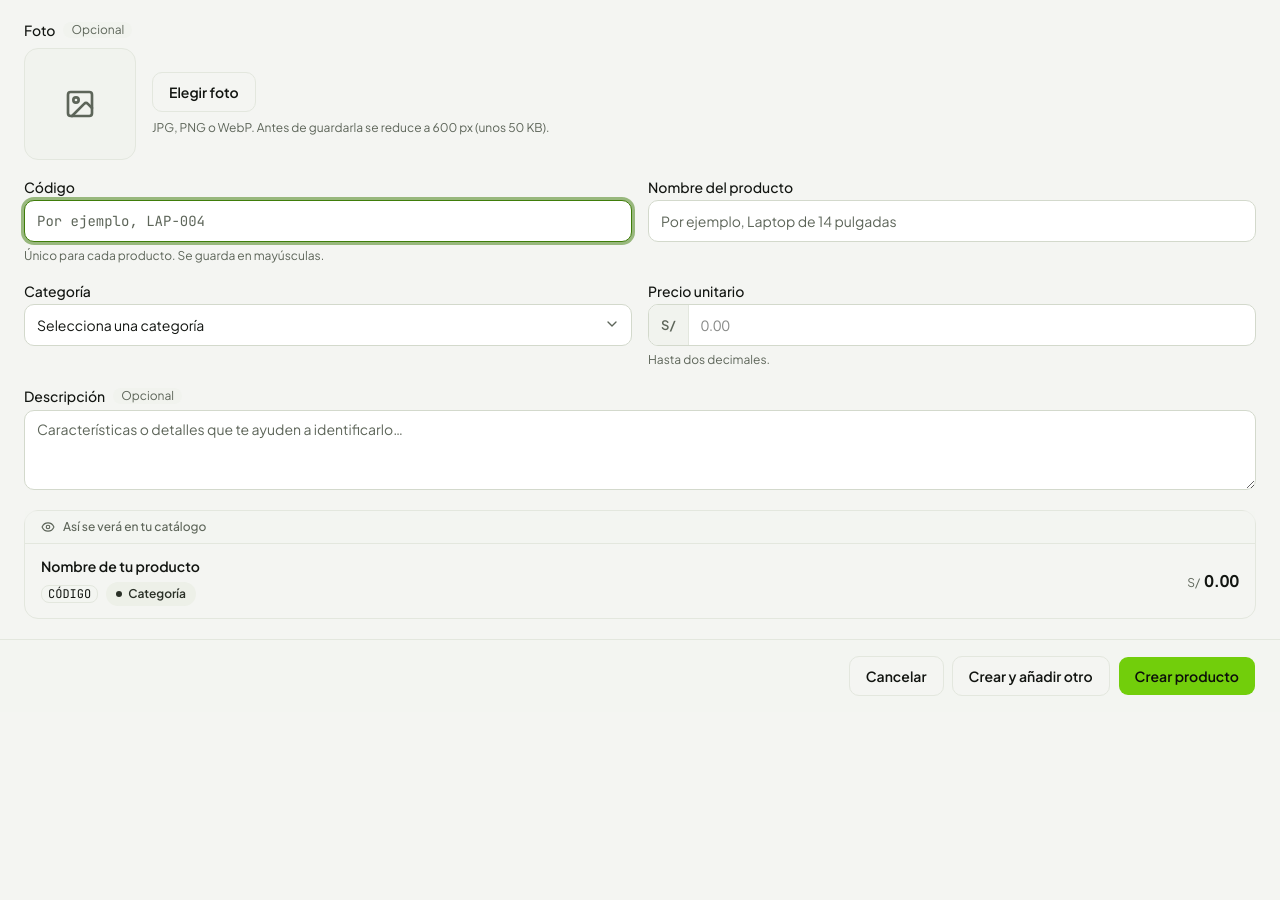
Scenario: ProductForm › marca los campos obligatorios y enfoca el primero
What coordinates should you click on to do the following:
click the button "Crear producto"
I would click on:
 (1187, 676)
Its box is [1118,656,1256,696].
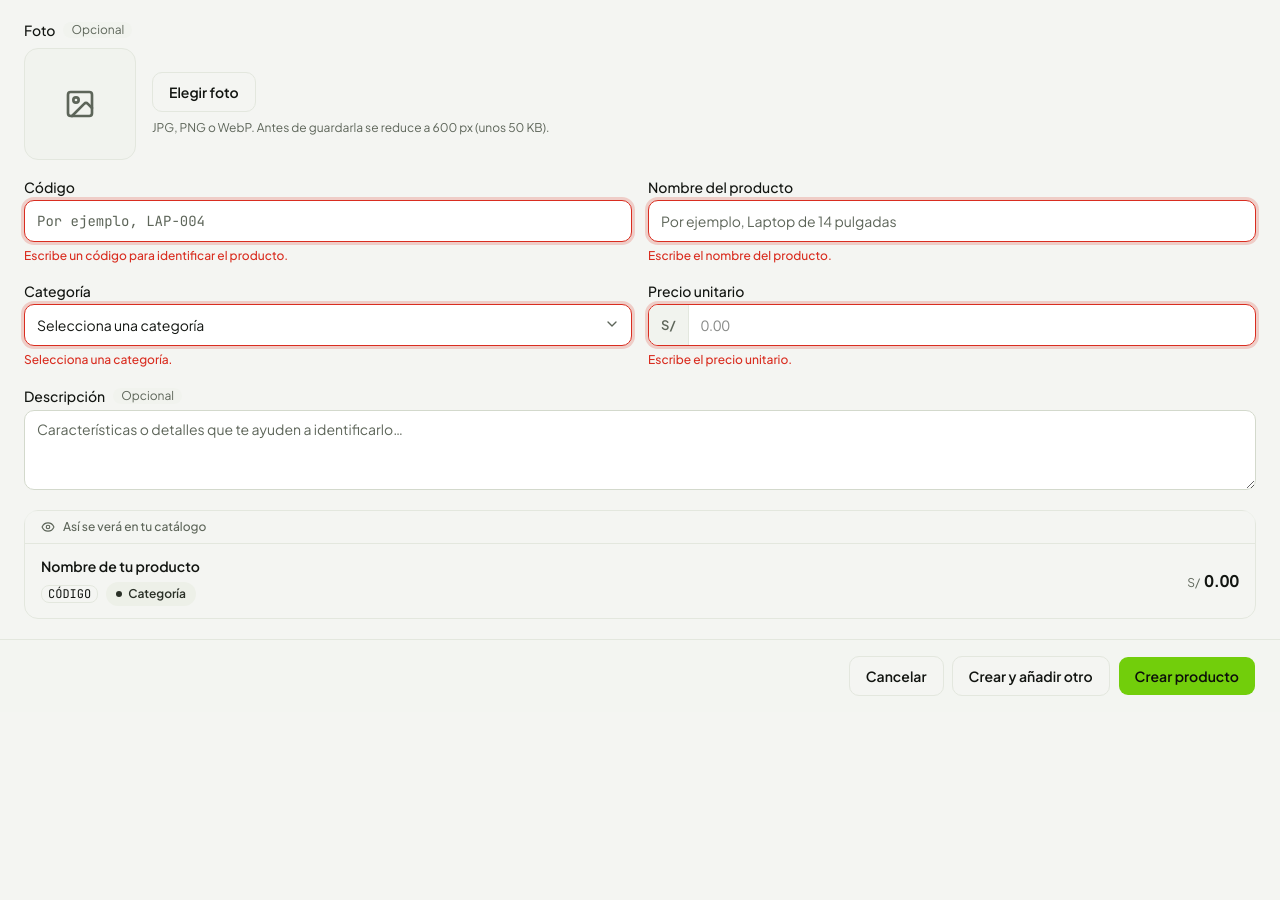
Now the text "Escribe un código para identificar el producto." is shown, box [24,248,288,263]
Now the text "Escribe el nombre del producto." is shown, box [648,248,832,263]
Now the text "Selecciona una categoría." is shown, box [24,352,172,367]
